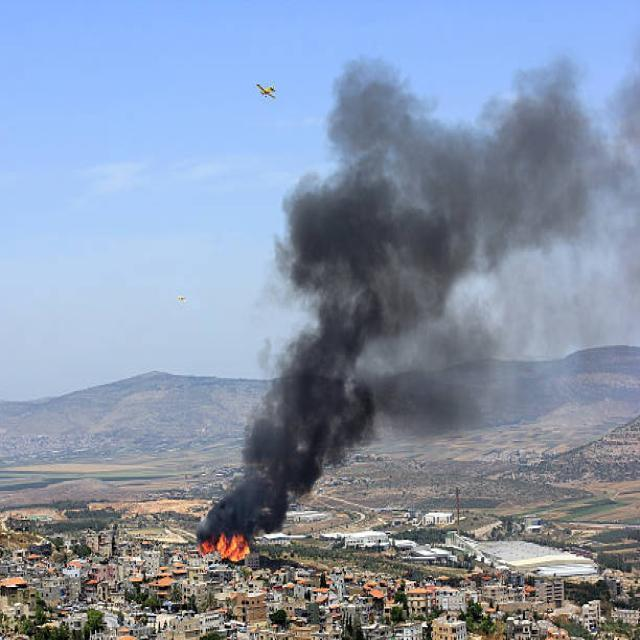Fire: (203, 533, 248, 562)
Smoke: (198, 52, 606, 546)
